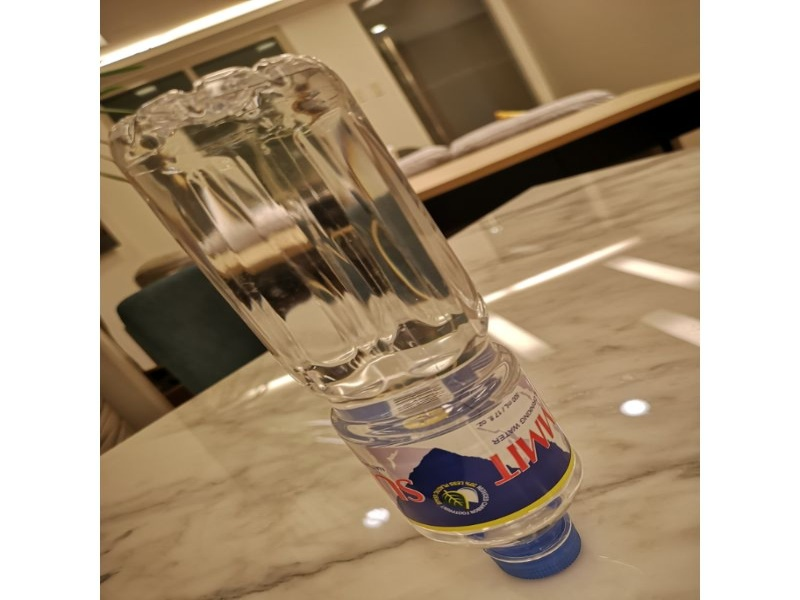PET #1: (110, 53, 601, 588)
